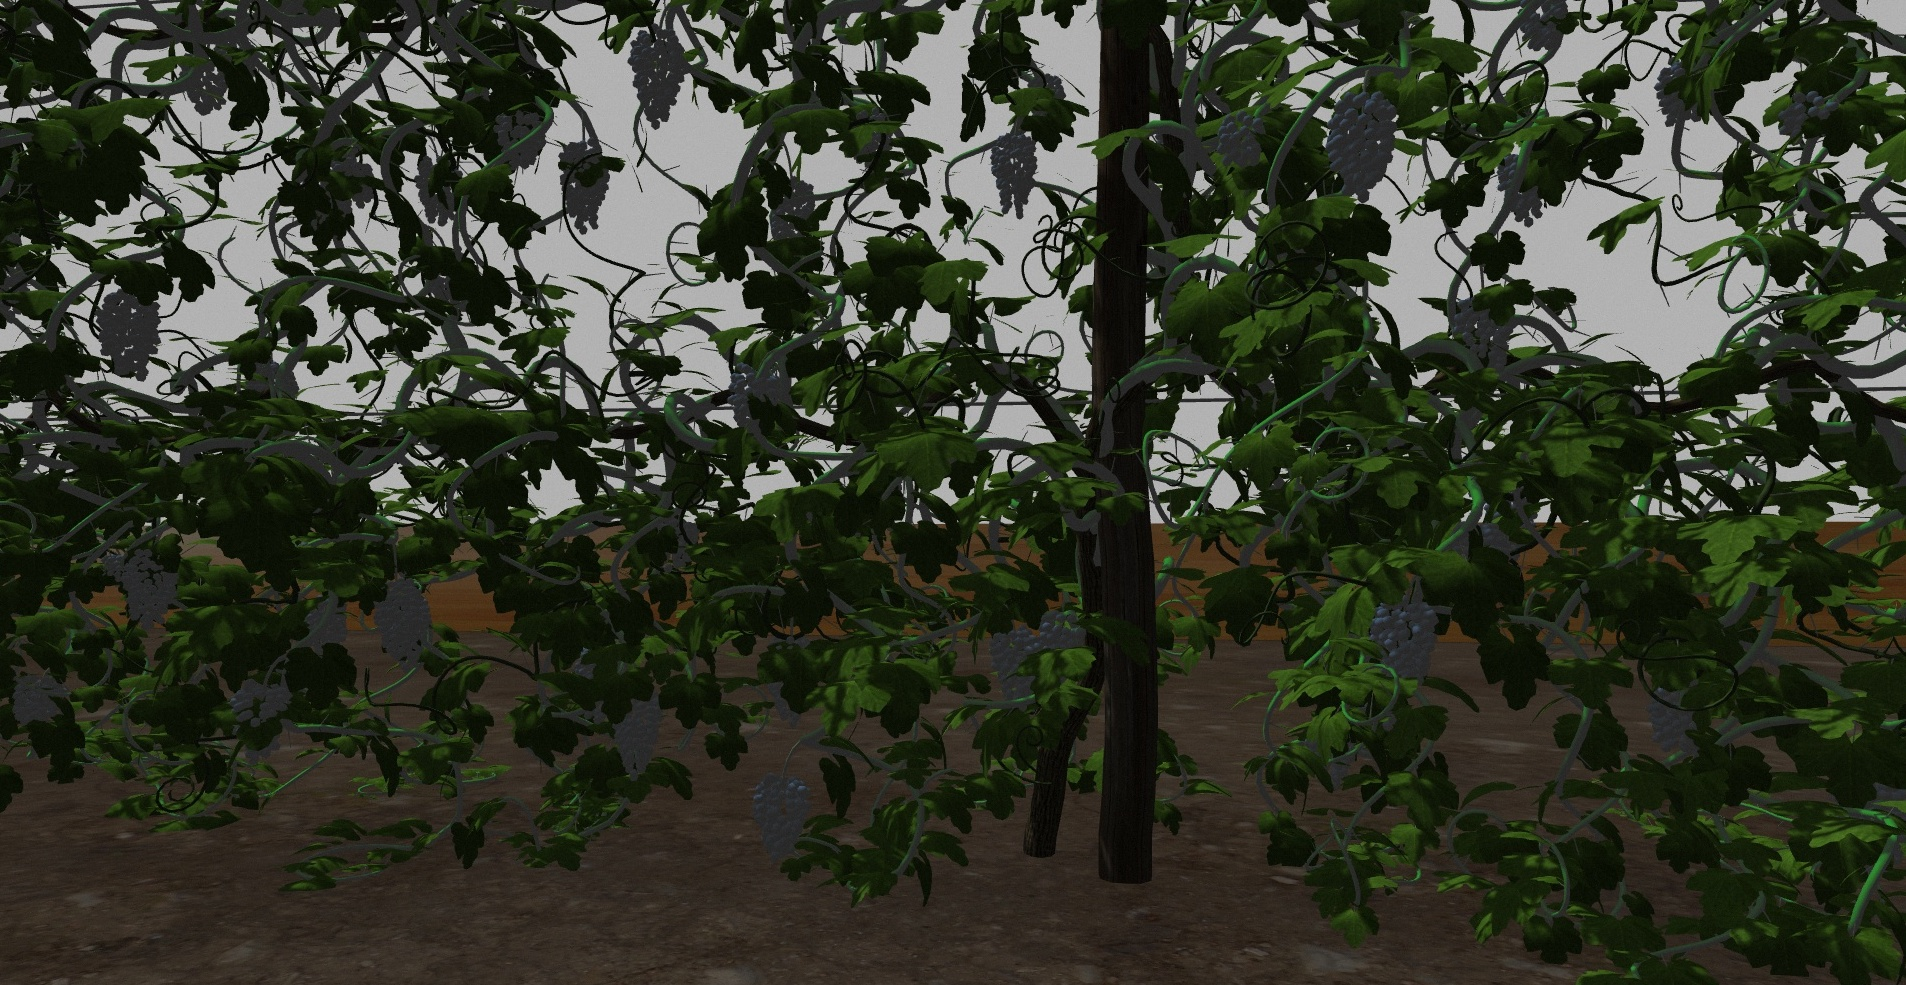grape: (1327, 89, 1397, 202), (95, 285, 163, 382), (625, 29, 686, 132), (1374, 599, 1438, 687), (374, 575, 434, 668), (752, 773, 811, 863), (557, 141, 611, 235), (1453, 295, 1516, 371), (121, 552, 180, 631), (613, 691, 663, 781), (989, 134, 1038, 221), (1645, 682, 1704, 754), (724, 363, 783, 430), (181, 49, 234, 118), (1497, 153, 1544, 227), (989, 629, 1038, 699), (768, 175, 816, 245), (497, 107, 547, 170), (11, 673, 68, 727), (1217, 113, 1267, 171), (1778, 90, 1837, 139), (236, 680, 293, 727), (1517, 3, 1568, 52), (1038, 611, 1087, 655)
